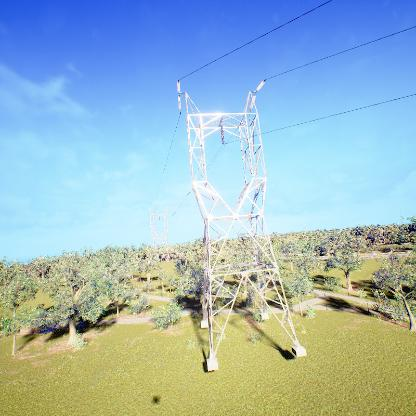tower: (173, 81, 309, 372), (147, 207, 170, 262)
